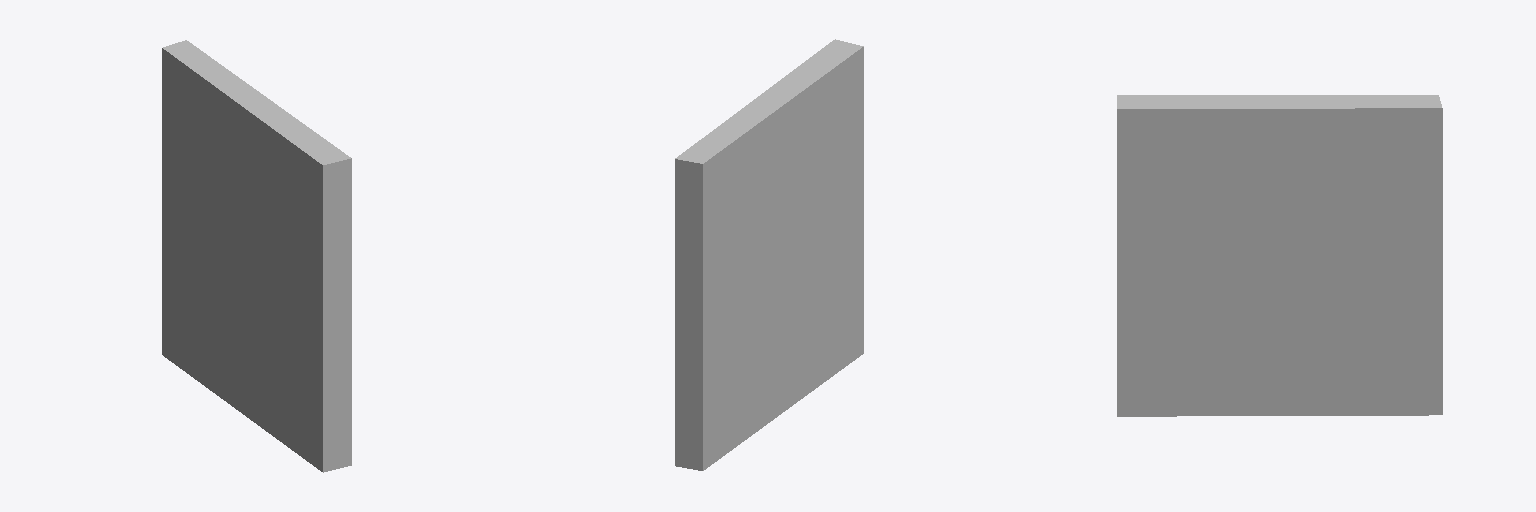
File: bright_124_wall1.obj
The picture shows the model from 3 angles: view 1: azimuth 30°, elevation 25°; view 2: azimuth 150°, elevation 25°; view 3: azimuth 270°, elevation 25°; orthographic projection.
Parts seen in each view (by area): view 1: polySurface4; view 2: polySurface4; view 3: polySurface4.
Boxes of the visible parts, x1,y1,x2,y2 form: polySurface4: [162, 40, 351, 472]; polySurface4: [675, 39, 863, 470]; polySurface4: [1117, 95, 1442, 416].
Size of the model in its own units: 1.91 by 19.3 by 18.52.